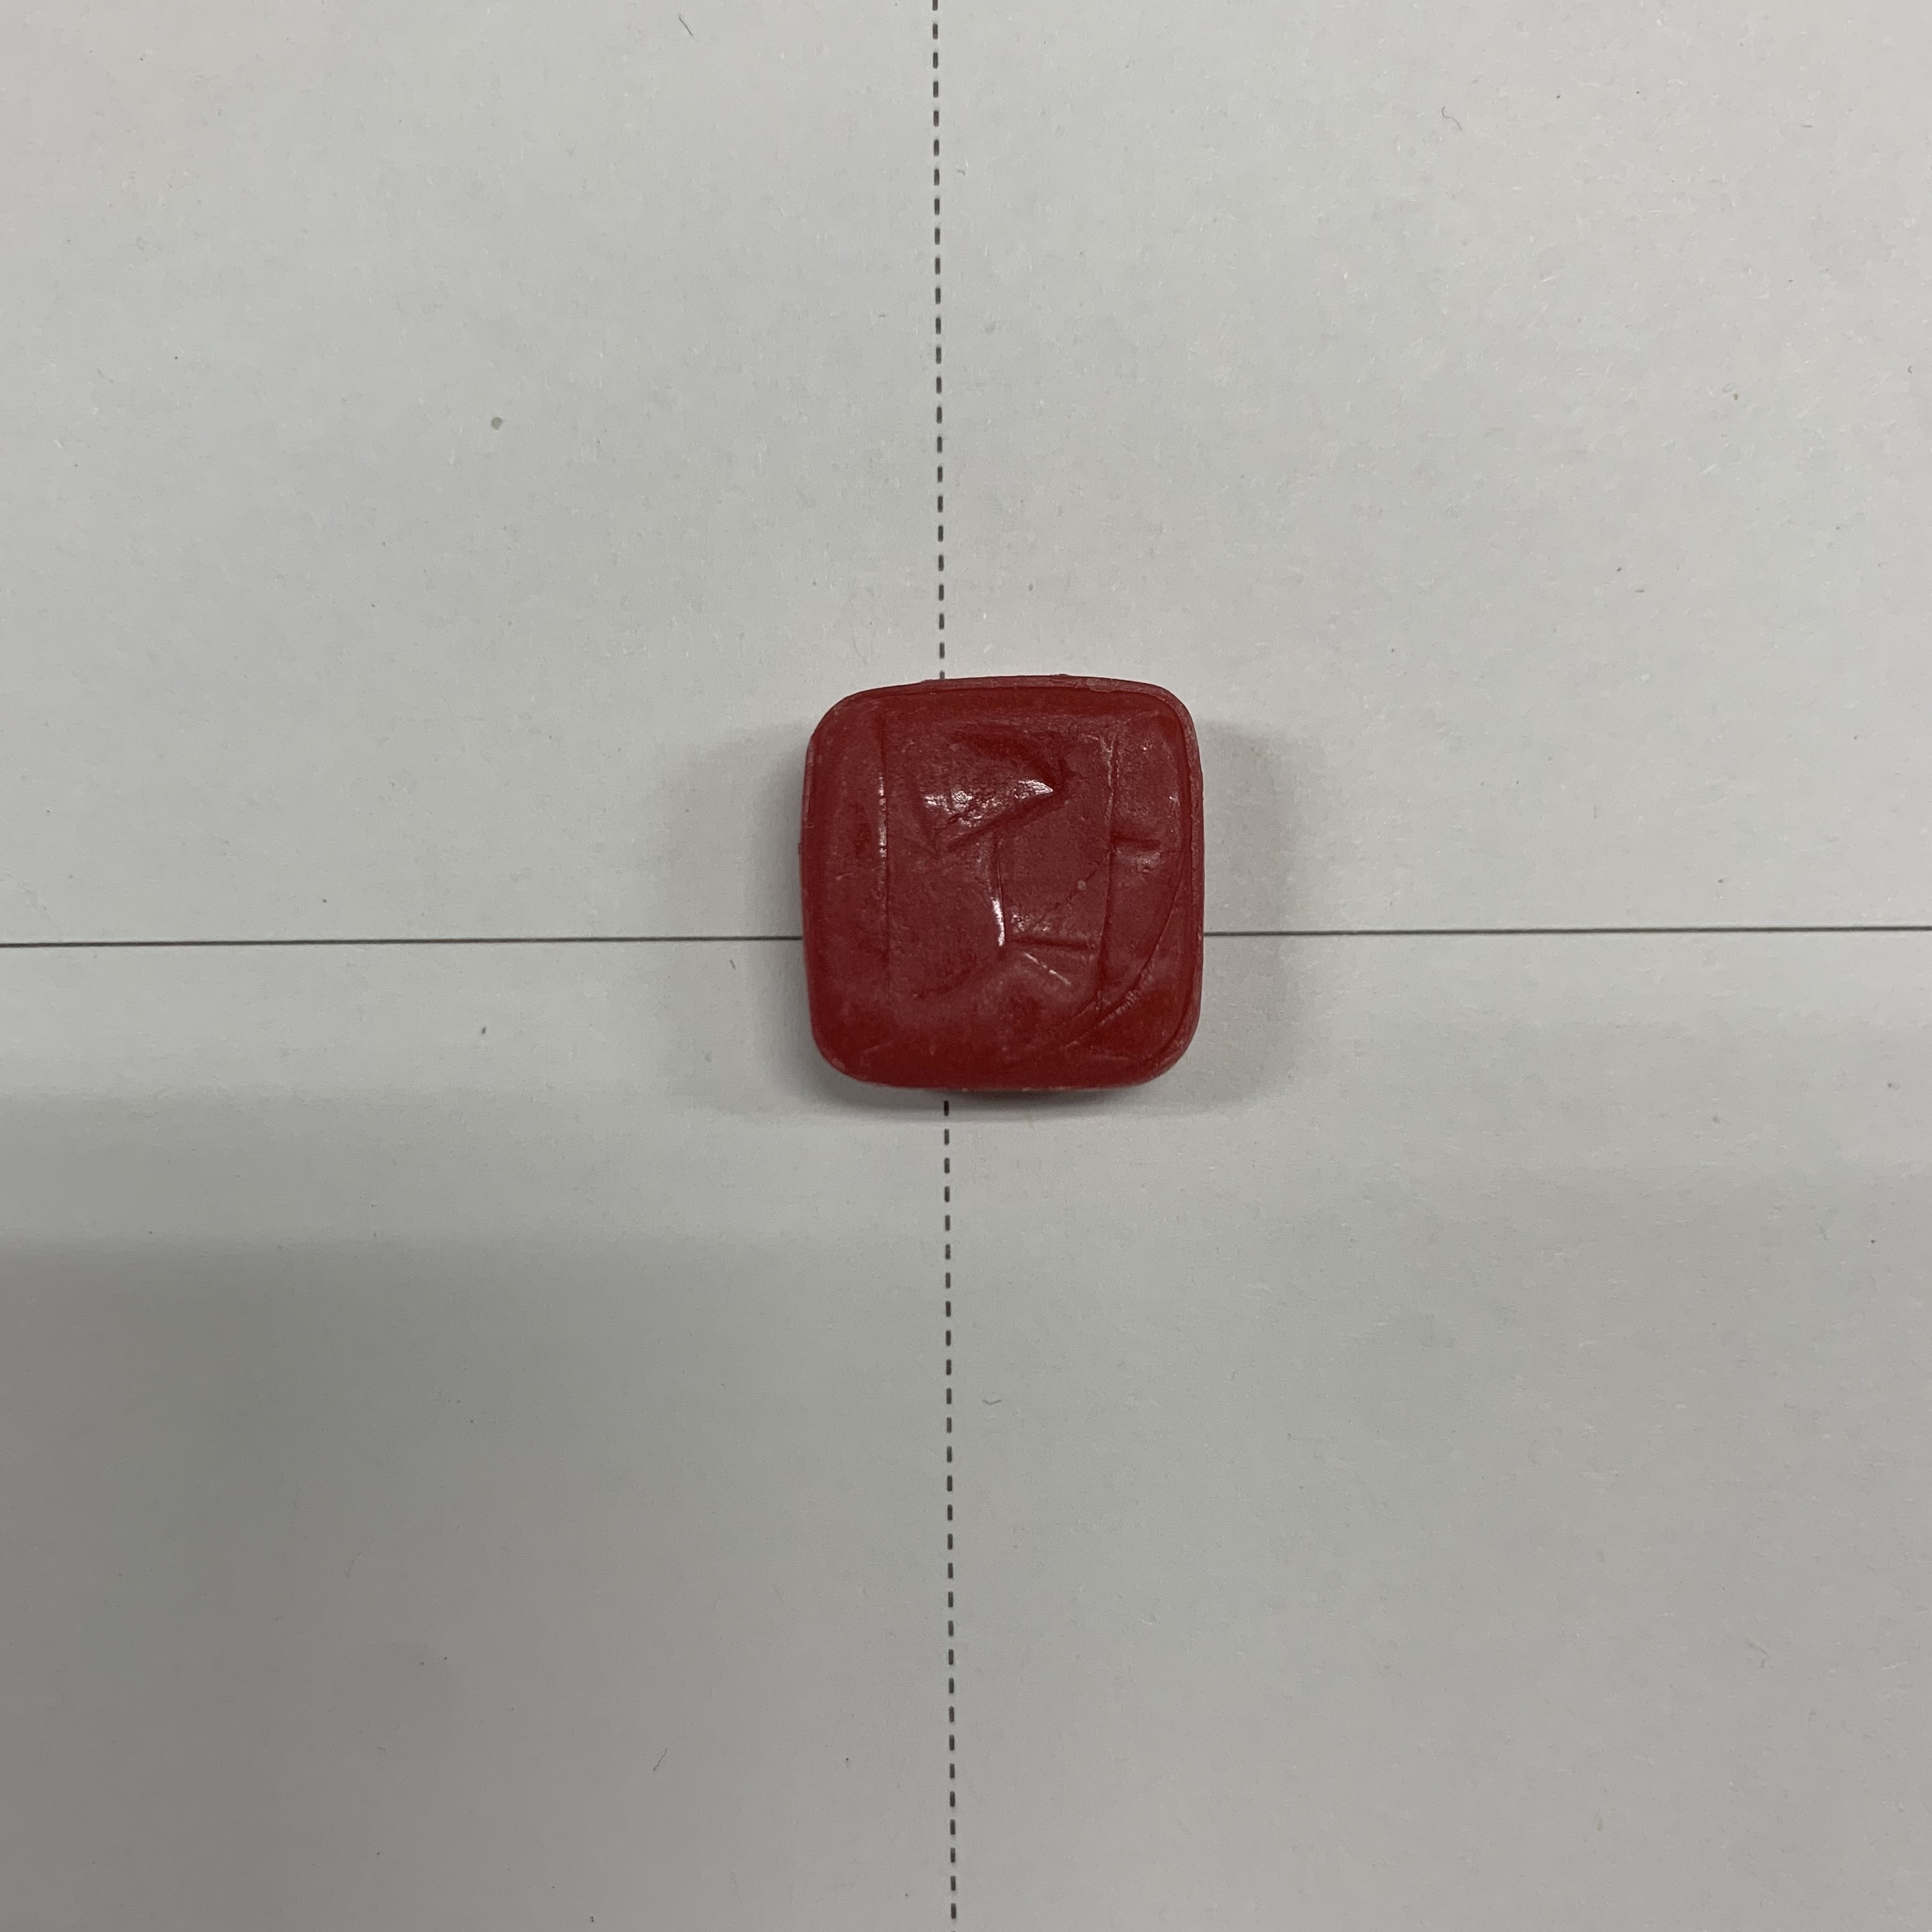sqr_drug: (784, 665, 1242, 1113)
